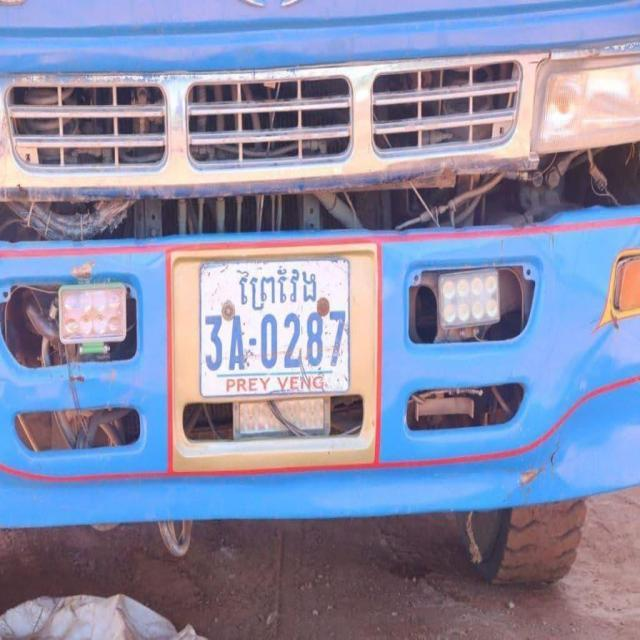Prey_Veng: (236, 265, 320, 312)
